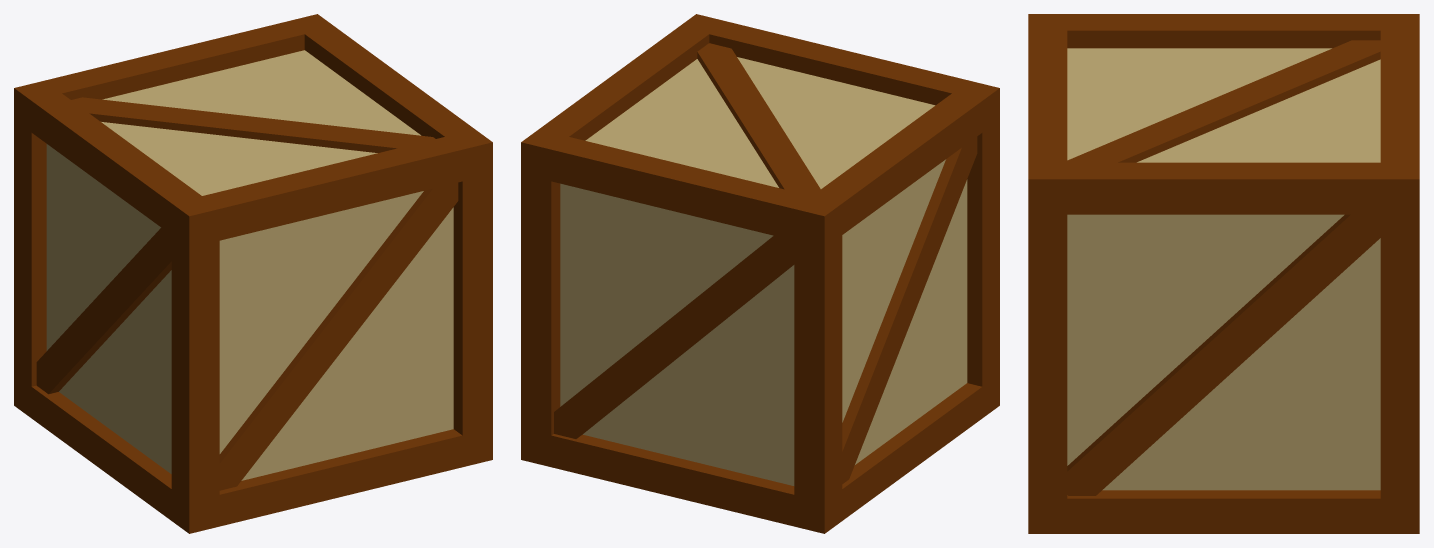
File: Crate.fbx
3 renders of one model, left to right at view 1: azimuth 30°, elevation 25°; view 2: azimuth 150°, elevation 25°; view 3: azimuth 270°, elevation 25°, orthographic. The views are drawn at different scales.
Parts seen in each view (by area): view 1: Crate; view 2: Crate; view 3: Crate.
Boxes of the visible parts, bbox=[...] form: Crate: bbox=[14, 14, 492, 533]; Crate: bbox=[521, 14, 999, 533]; Crate: bbox=[1028, 14, 1419, 533].
Size of the model in its own units: 100 by 100 by 100.
